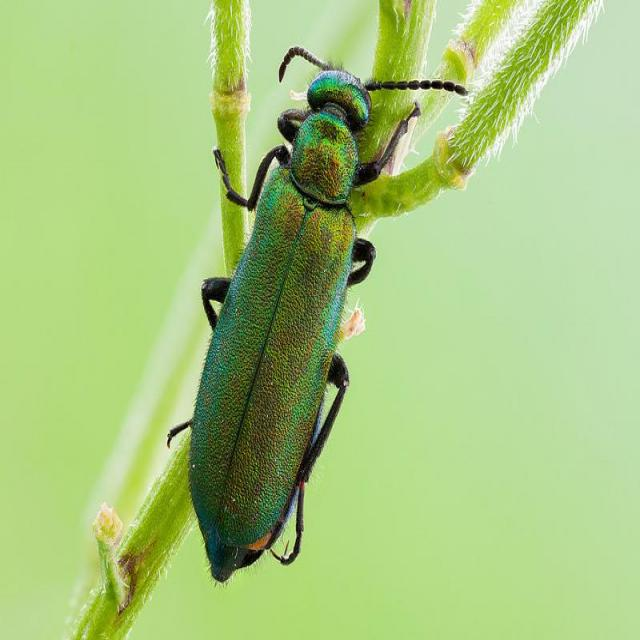BlisterBeetle-Adult-: (164, 24, 469, 588)
